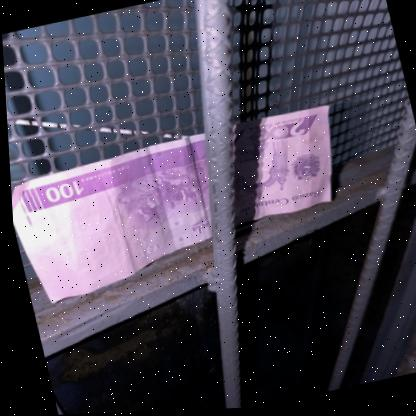one_hundred-back-vef: (5, 105, 358, 308)
